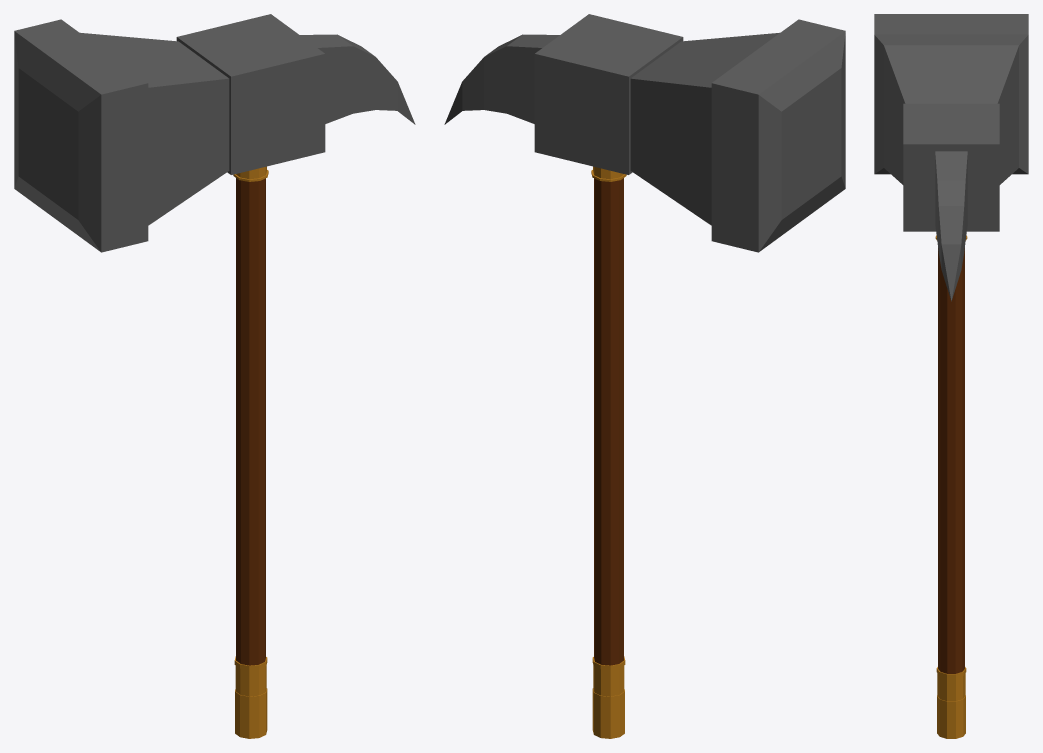
File: hamer.fbx
3 renders of one model, left to right at view 1: azimuth 30°, elevation 25°; view 2: azimuth 150°, elevation 25°; view 3: azimuth 270°, elevation 25°, orthographic. The views are drawn at different scales.
Parts seen in each view (by area): view 1: Cylinder; view 2: Cylinder; view 3: Cylinder.
Part boxes in pixels (x1,y1,x2,y2): Cylinder: (14, 14, 415, 738); Cylinder: (444, 14, 845, 738); Cylinder: (874, 14, 1028, 738).
Bounding box in the file's own units: 0.8485 × 1.58 × 0.3487.
